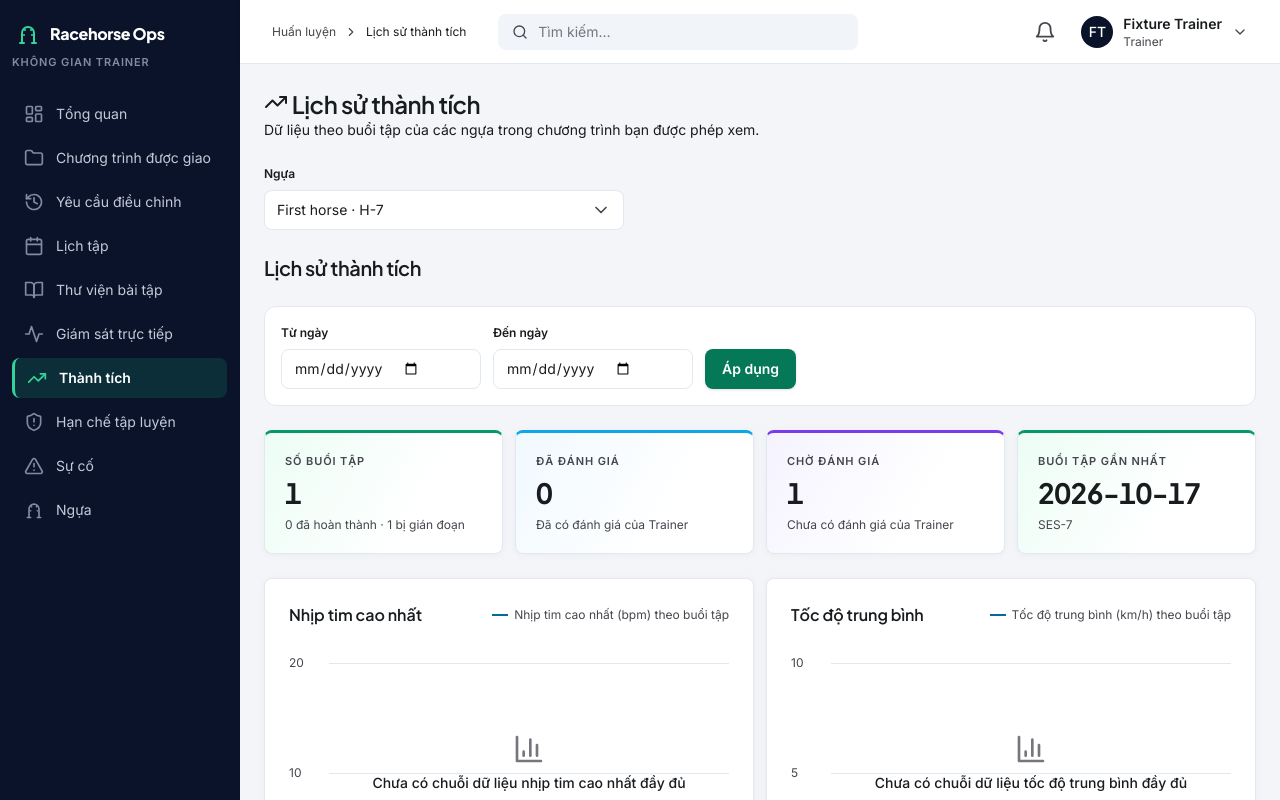
Test: switches horses without retaining the previous horse history
Select "Second horse · H-8" in the dropdown labelled "Ngựa" at {"x": 444, "y": 210}, box top-left (265, 191), bottom-right (623, 229)
(page scrolled)
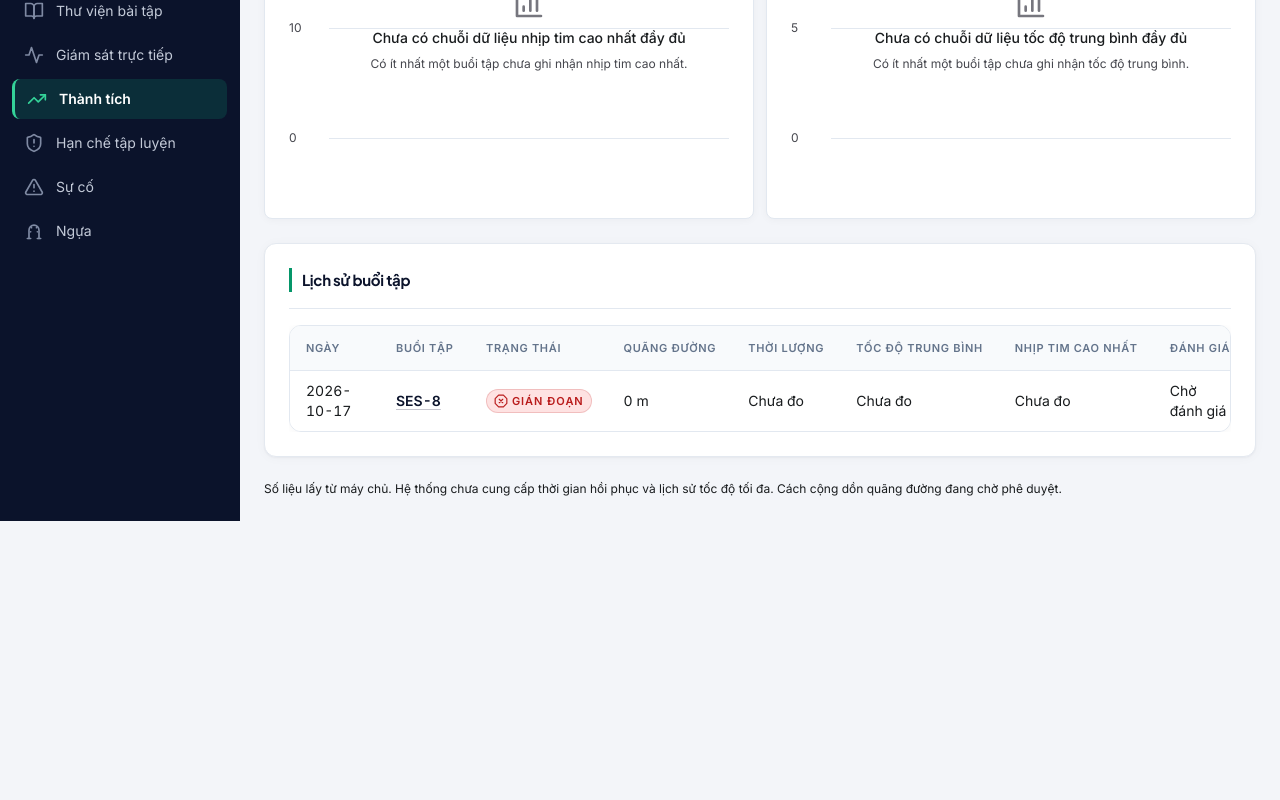
Expected: the link "SES-8" is shown, top-left (396, 392), bottom-right (441, 409)
Expected: the text "SES-7" is gone
